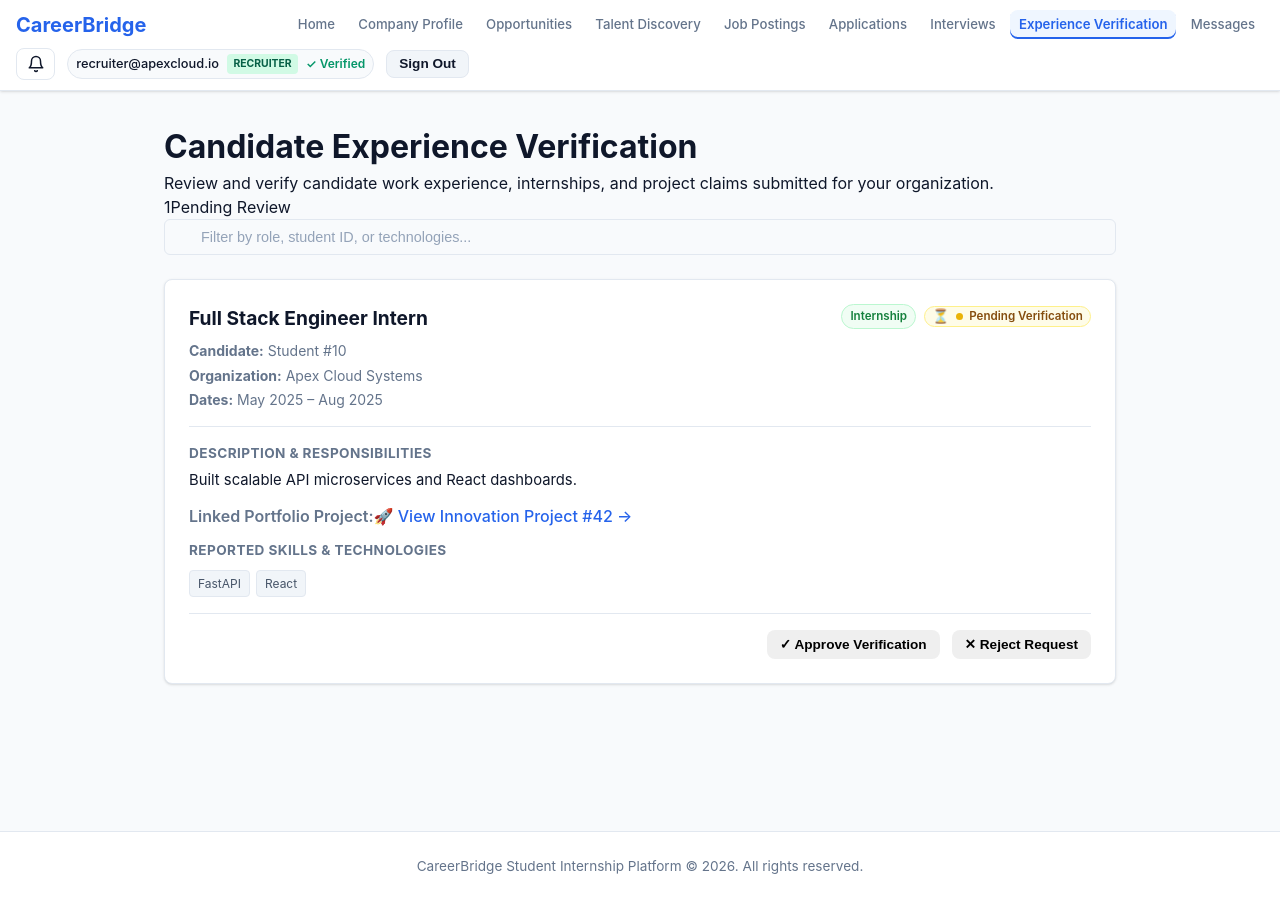
Scenario: Verified Experience Full End-to-End Integration Flow (Phase 5) › Flow 2: Recruiter Verification Queue & Decision Workflows › allows recruiter to view pending claims, approve, and reject with feedback notes
The image size is (1280, 900).
Expected: the heading "Full Stack Engineer Intern" is shown, [189,304,428,332]
Expected: the text "Organization: Apex Cloud Systems" is shown, [189,366,423,384]
Click the button with test id "approve-btn-202" at (853, 644), box [767,630,940,659]
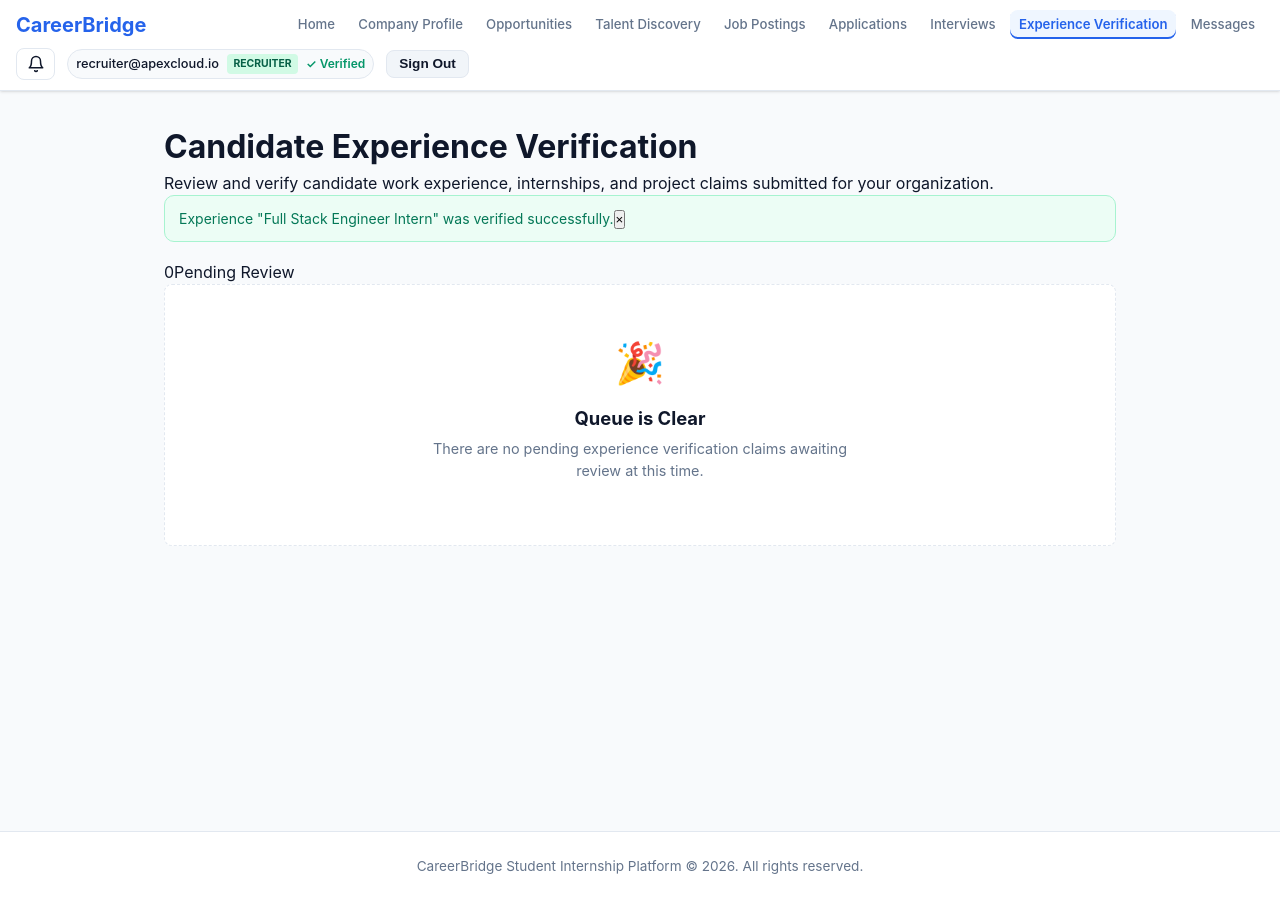
Expected: the text "Experience \"Full Stack Engineer Intern\" was verified successfully." is shown, [179,210,614,227]
Expected: the element with test id "verification-request-card-202" is gone
